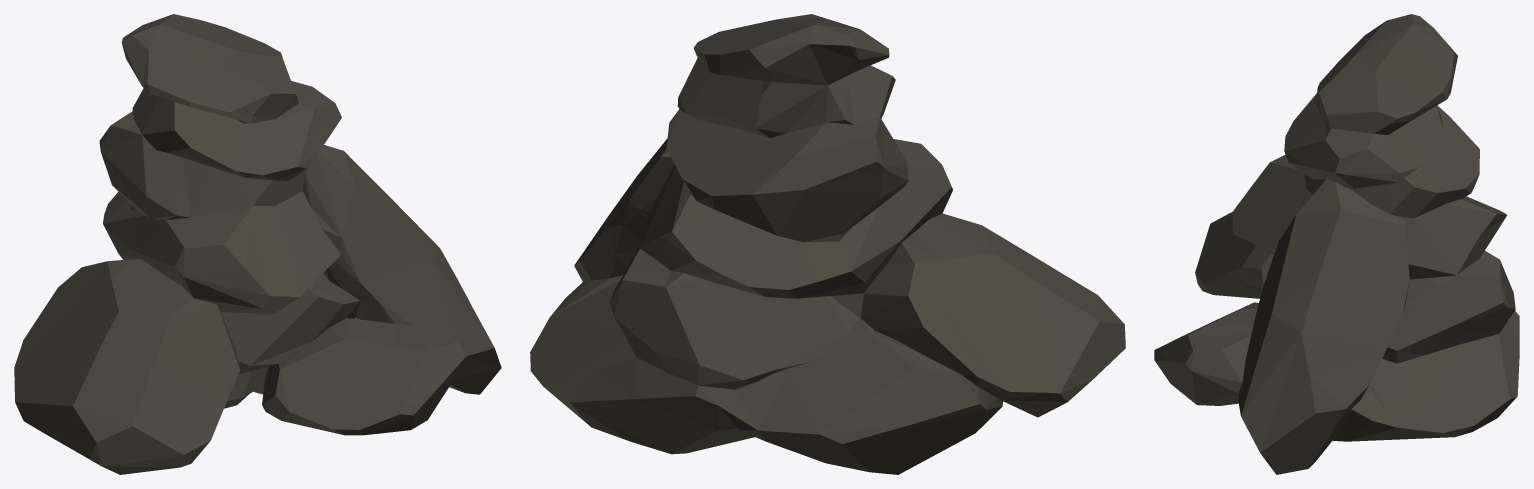
Rendered from synty-rock-pile-03.gltf.
3 renders of one model, left to right at view 1: azimuth 30°, elevation 25°; view 2: azimuth 150°, elevation 25°; view 3: azimuth 270°, elevation 25°, orthographic. The views are drawn at different scales.
Visible parts, largest first — view 1: SM_Rock_Pile_03; view 2: SM_Rock_Pile_03; view 3: SM_Rock_Pile_03.
Boxes of the visible parts, bbox=[...] form: SM_Rock_Pile_03: bbox=[14, 14, 501, 474]; SM_Rock_Pile_03: bbox=[530, 14, 1125, 474]; SM_Rock_Pile_03: bbox=[1154, 14, 1519, 474].
Size of the model in its own units: 6.34 by 5.25 by 5.02.
Materials: 1 (1 with a texture image).
